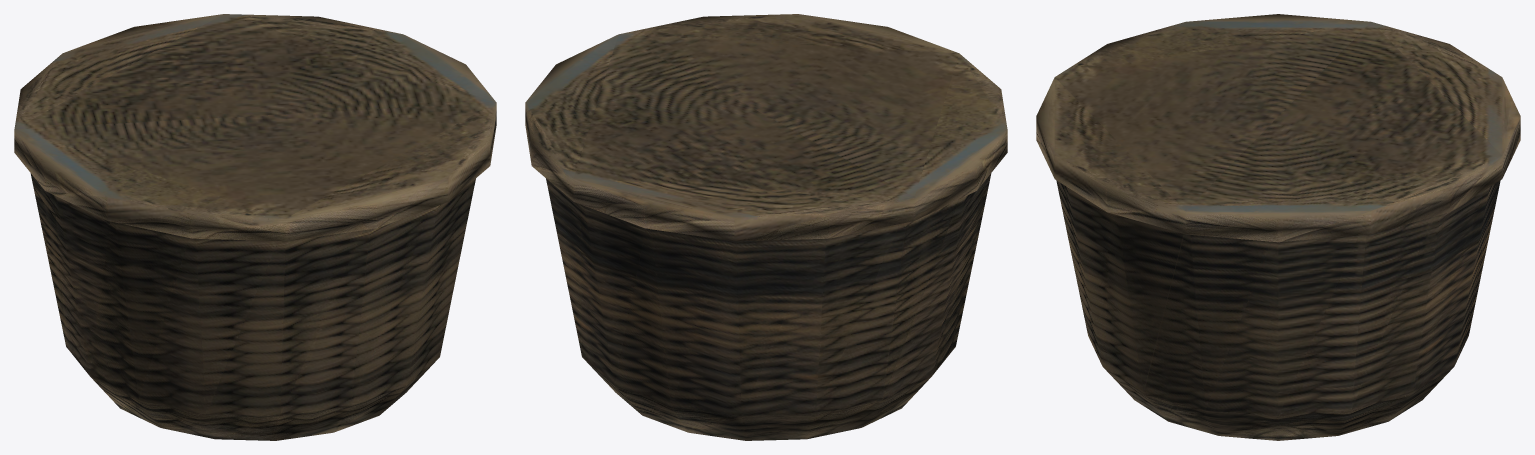
Rendered from basket.glb.
3 renders of one model, left to right at view 1: azimuth 30°, elevation 25°; view 2: azimuth 150°, elevation 25°; view 3: azimuth 270°, elevation 25°, orthographic.
Parts seen in each view (by area): view 1: basket; view 2: basket; view 3: basket.
Part boxes in pixels (bbox=[...]): basket: bbox=[14, 14, 496, 440]; basket: bbox=[525, 14, 1007, 440]; basket: bbox=[1036, 14, 1520, 440].
Bounding box in the file's own units: 0.56 × 0.33 × 0.56.
1 material, 1 textured.
